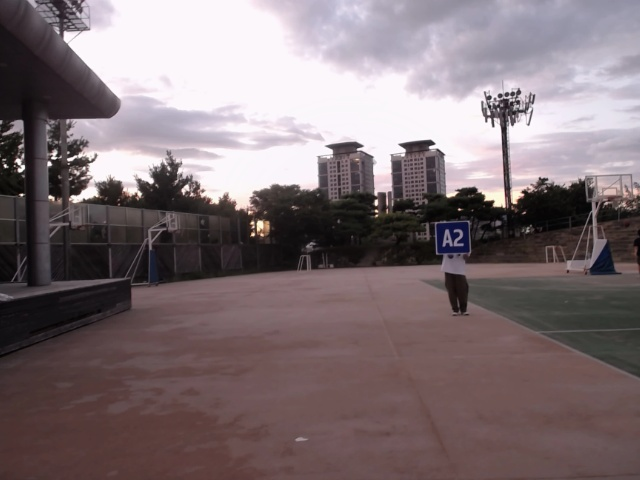delivery_a2: (436, 221, 471, 255)
